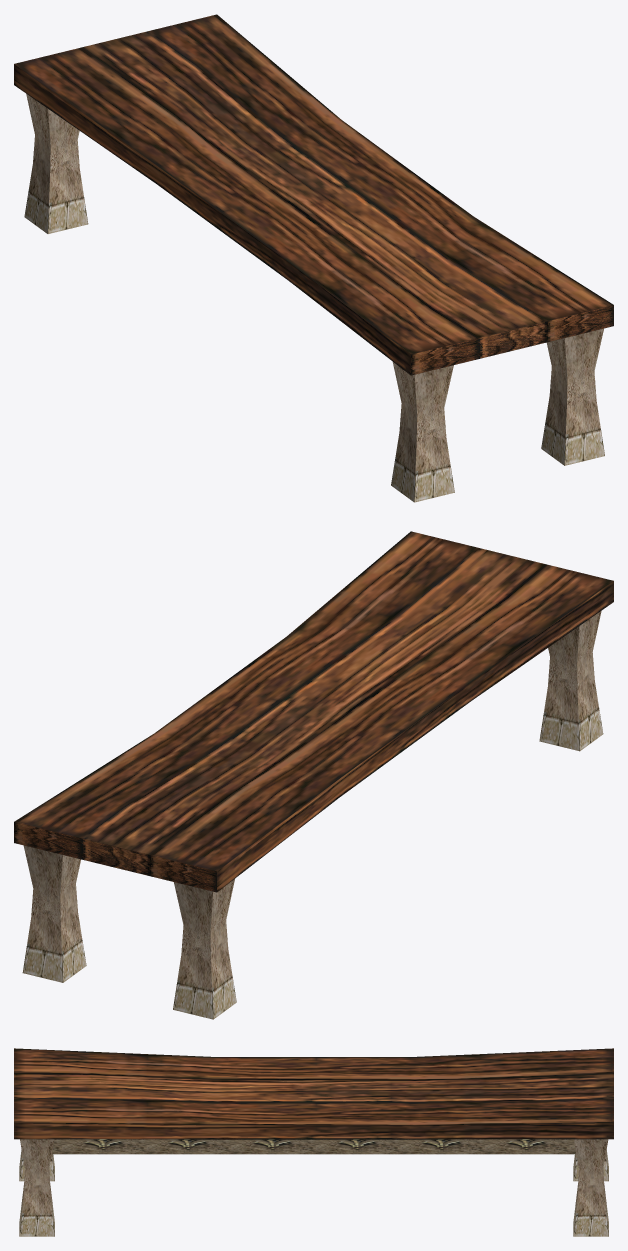
The model's file is INST_RIVENDELL_BENCH.fbx.
The picture shows the model from 3 angles, top to bottom: view 1: azimuth 30°, elevation 25°; view 2: azimuth 150°, elevation 25°; view 3: azimuth 270°, elevation 25°; orthographic projection. The views are drawn at different scales.
Visible parts, largest first — view 1: INST_RIVENDELL_BENCH; view 2: INST_RIVENDELL_BENCH; view 3: INST_RIVENDELL_BENCH.
Part boxes in pixels (bbox=[...]): INST_RIVENDELL_BENCH: bbox=[14, 14, 613, 502]; INST_RIVENDELL_BENCH: bbox=[14, 531, 613, 1019]; INST_RIVENDELL_BENCH: bbox=[14, 1048, 613, 1236].
Size of the model in its own units: 6000 by 4305 by 20321.
Materials: 3 (3 with a texture image).
